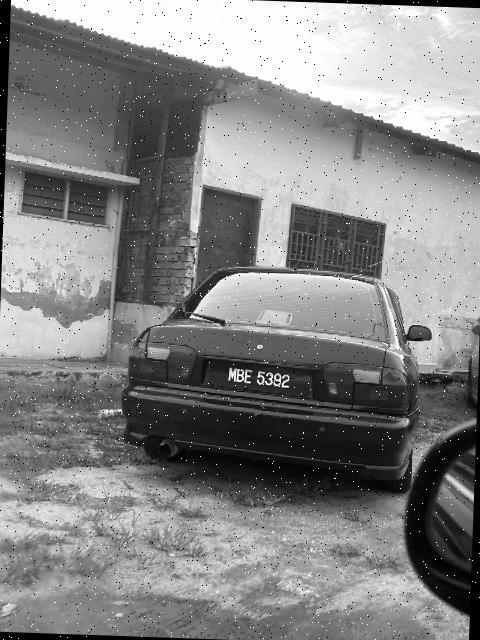License_Plate: (209, 359, 313, 403)
car: (116, 256, 452, 500)
